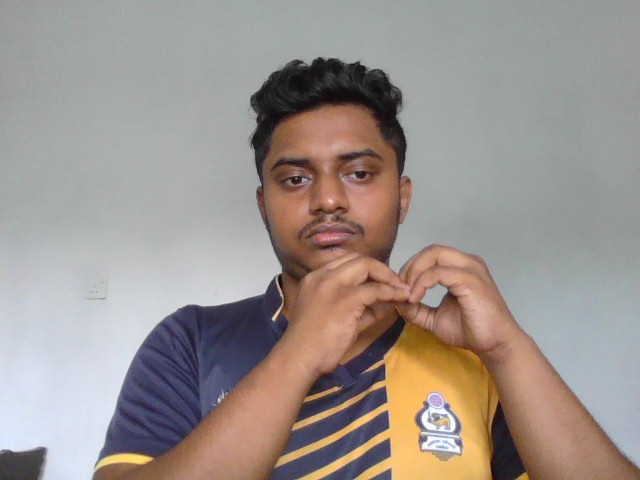More: (282, 241, 527, 373)
